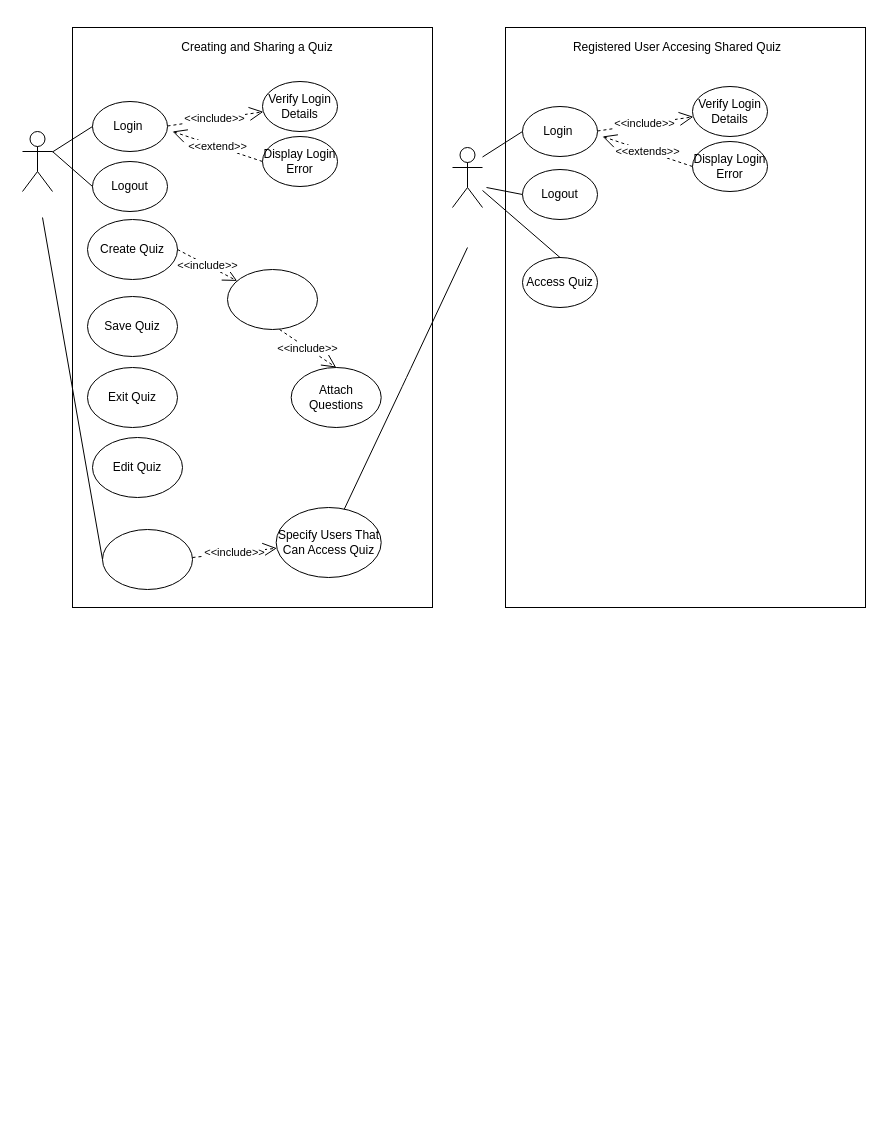
The diagram is 884 pixels wide and 1134 high, and some of its shapes have lost their labels. Here are the shapes that lost their labels. From the top down, the centre of each, then its label:
the point at 37,161: Creator
the point at 467,177: Registered User
the point at 272,299: Create Questions
the point at 147,559: Share Quiz
